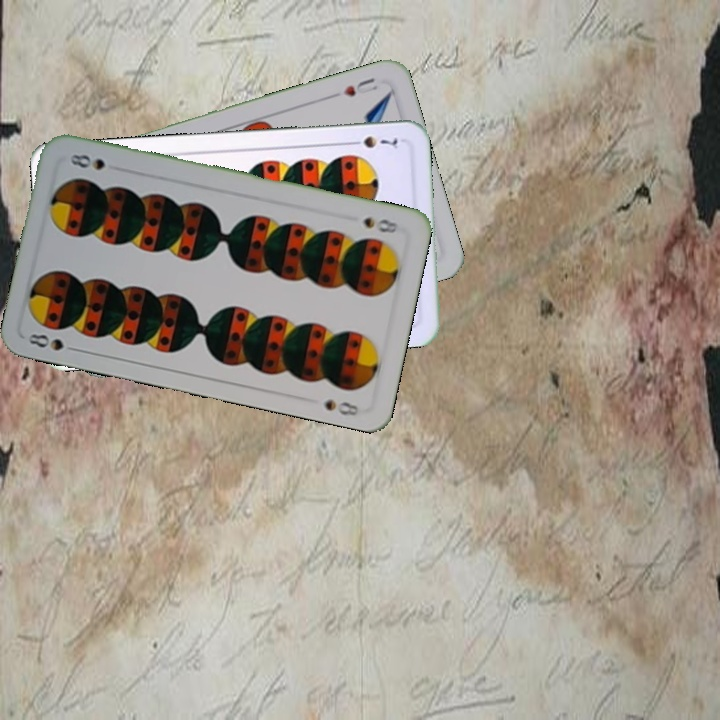HU: (339, 73, 381, 99)
S7: (344, 132, 400, 151)
S8: (24, 329, 82, 355), (359, 213, 406, 236)
